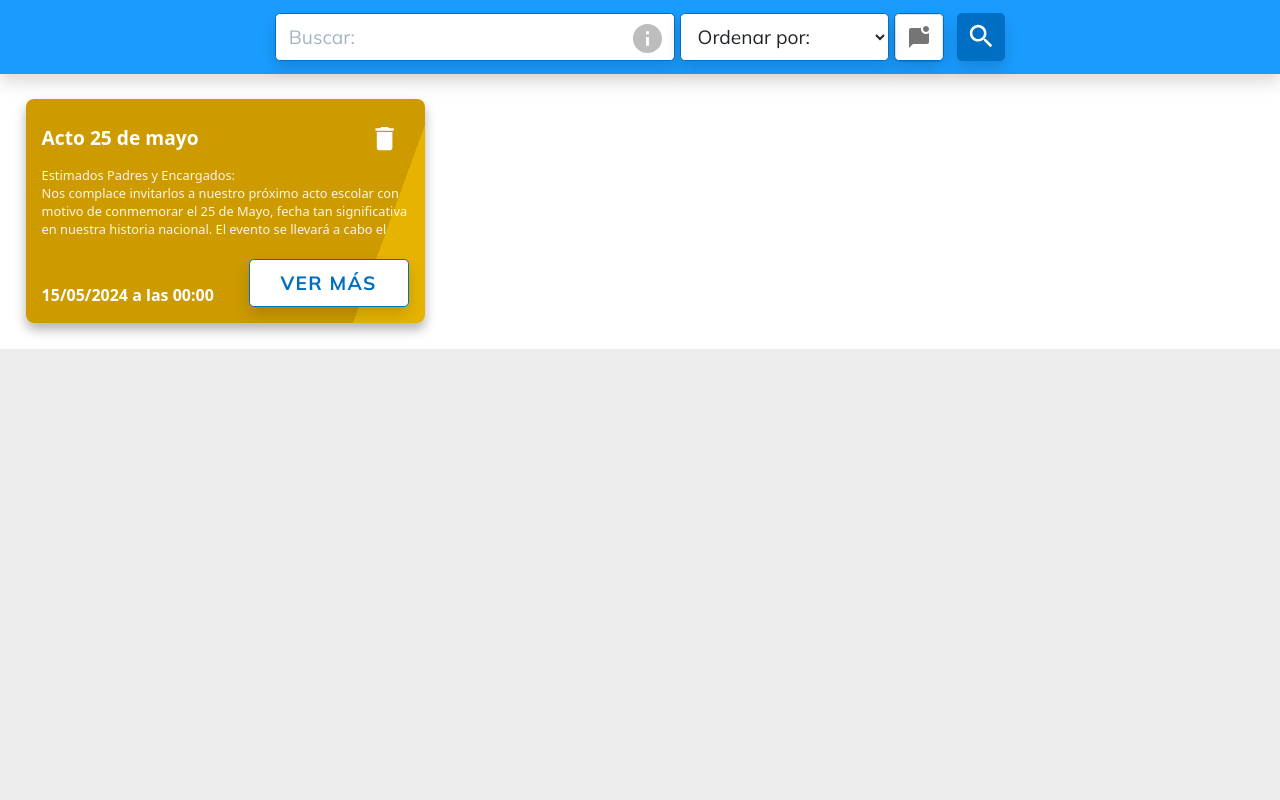
Scenario: CreateNotification component › should render the modal when clickin "VER MÁS" button
The image size is (1280, 800).
Click the button "Ver Más" at (328, 283), box [248,259,408,307]
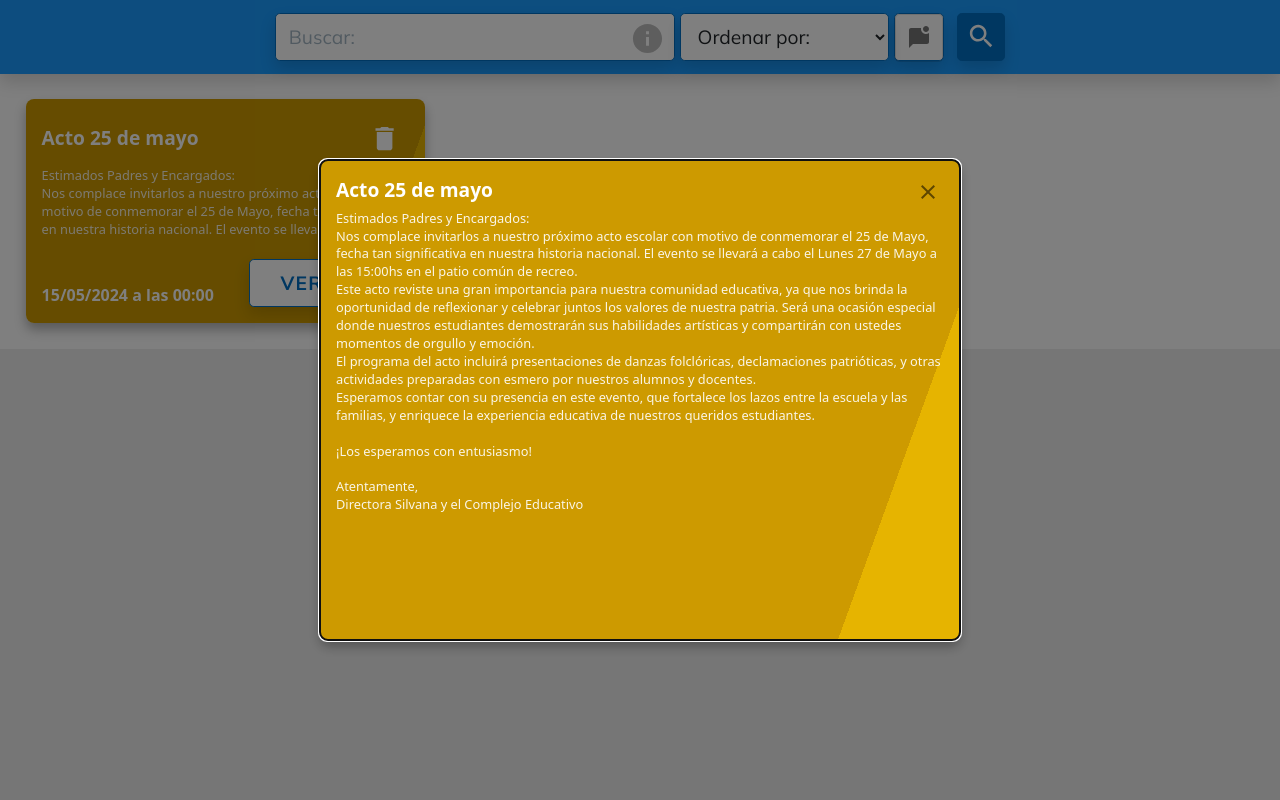
Result: the element with test id "notification-modal0" is shown
